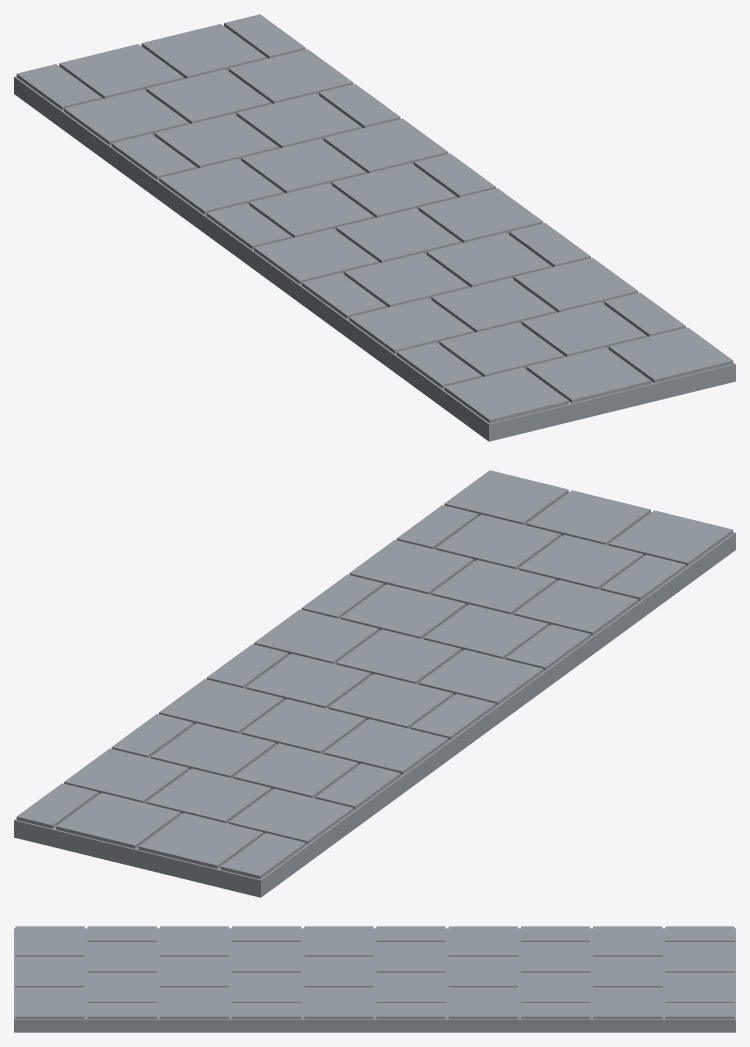
File: Sidewalk.FBX
The picture shows the model from 3 angles, top to bottom: view 1: azimuth 30°, elevation 25°; view 2: azimuth 150°, elevation 25°; view 3: azimuth 270°, elevation 25°; orthographic projection. The views are drawn at different scales.
Visible parts, largest first — view 1: Box002; view 2: Box002; view 3: Box002.
Part boxes in pixels (x1,y1,x2,y2): Box002: [14, 14, 735, 441]; Box002: [14, 470, 735, 897]; Box002: [14, 926, 735, 1032].
Bounding box in the file's own units: 1.5 × 5 × 0.12.
